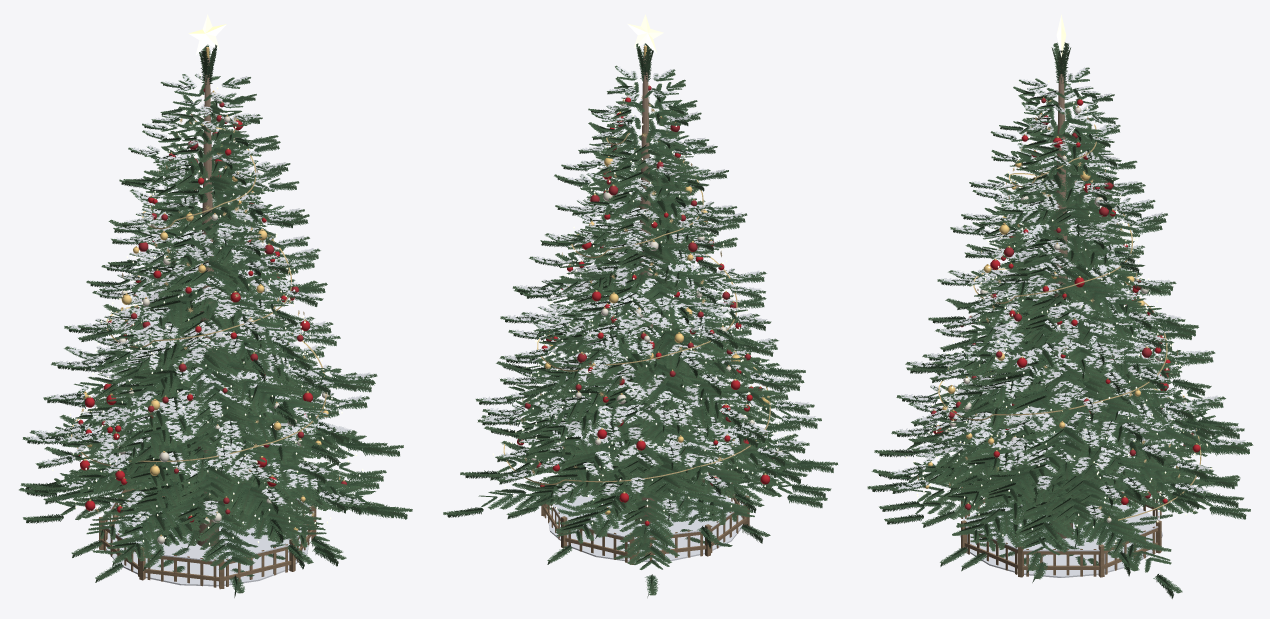
The model's file is tree.glb.
The picture shows the model from 3 angles, left to right: view 1: azimuth 30°, elevation 25°; view 2: azimuth 150°, elevation 25°; view 3: azimuth 270°, elevation 25°; orthographic projection. The views are drawn at different scales.
Visible parts, largest first — view 1: tree_needles, snow_tree, snow_tree_fence, tree_fence, tree_baubles_red, tree_trunk, tree_bead_garland, tree_baubles_matte, bulbs_tree, tree_baubles_gold, tree_baubles_champ, bulbs_star; view 2: tree_needles, snow_tree, snow_tree_fence, tree_fence, tree_baubles_red, tree_bead_garland, tree_trunk, tree_baubles_matte, bulbs_tree, tree_baubles_champ, tree_baubles_gold, bulbs_star; view 3: tree_needles, snow_tree, snow_tree_fence, tree_fence, tree_bead_garland, tree_baubles_red, tree_trunk, bulbs_tree, tree_baubles_matte, tree_baubles_gold, tree_baubles_champ.
Part boxes in pixels (left/top/right/bottom): tree_needles: left=19, top=44, right=412, bottom=597; snow_tree: left=27, top=73, right=372, bottom=526; snow_tree_fence: left=103, top=482, right=314, bottom=586; tree_fence: left=99, top=487, right=316, bottom=589; tree_baubles_red: left=78, top=88, right=319, bottom=522; tree_trunk: left=196, top=57, right=219, bottom=546; tree_bead_garland: left=71, top=113, right=326, bottom=465; tree_baubles_matte: left=101, top=102, right=346, bottom=514; bulbs_tree: left=52, top=74, right=363, bottom=544; tree_baubles_gold: left=83, top=146, right=328, bottom=530; tree_baubles_champ: left=117, top=92, right=328, bottom=543; bulbs_star: left=188, top=14, right=226, bottom=55; tree_needles: left=443, top=43, right=837, bottom=597; snow_tree: left=480, top=65, right=817, bottom=513; snow_tree_fence: left=547, top=469, right=744, bottom=561; tree_fence: left=541, top=468, right=749, bottom=564; tree_baubles_red: left=517, top=97, right=773, bottom=525; tree_bead_garland: left=503, top=133, right=770, bottom=484; tree_trunk: left=635, top=56, right=656, bottom=523; tree_baubles_matte: left=525, top=86, right=761, bottom=468; bulbs_tree: left=492, top=82, right=792, bottom=524; tree_baubles_champ: left=531, top=98, right=782, bottom=460; tree_baubles_gold: left=545, top=141, right=769, bottom=514; bulbs_star: left=627, top=14, right=663, bottom=53; tree_needles: left=867, top=42, right=1253, bottom=598; snow_tree: left=890, top=67, right=1246, bottom=519; snow_tree_fence: left=960, top=492, right=1162, bottom=577; tree_fence: left=961, top=475, right=1161, bottom=577; tree_bead_garland: left=938, top=124, right=1201, bottom=520; tree_baubles_red: left=933, top=99, right=1200, bottom=504; tree_trunk: left=1050, top=57, right=1072, bottom=538; bulbs_tree: left=905, top=80, right=1211, bottom=542; tree_baubles_matte: left=931, top=98, right=1169, bottom=510; tree_baubles_gold: left=924, top=163, right=1178, bottom=488; tree_baubles_champ: left=937, top=107, right=1186, bottom=522.
Size of the model in its own units: 10.02 by 15.67 by 10.32.
Materials: 12 (4 with a texture image).
